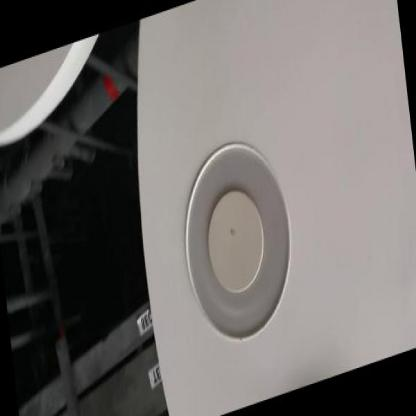light_off: (162, 85, 314, 380)
